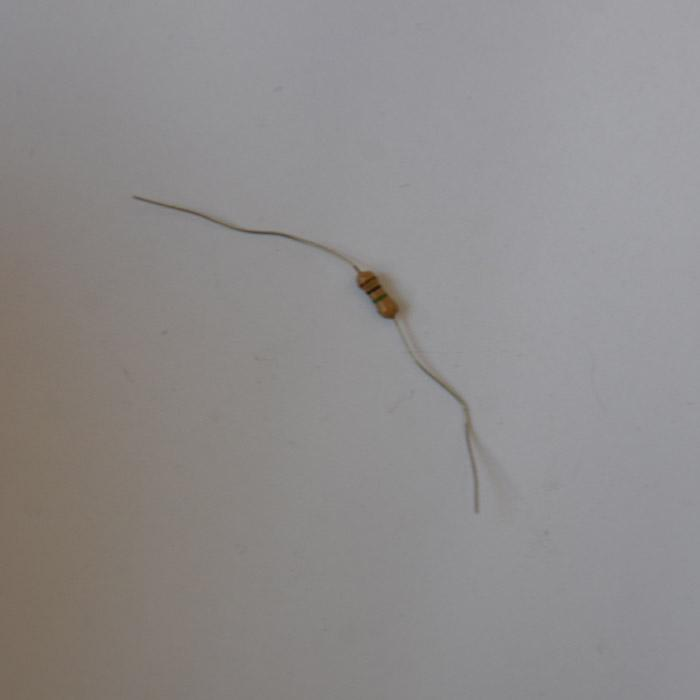resistor: (355, 267, 399, 320)
